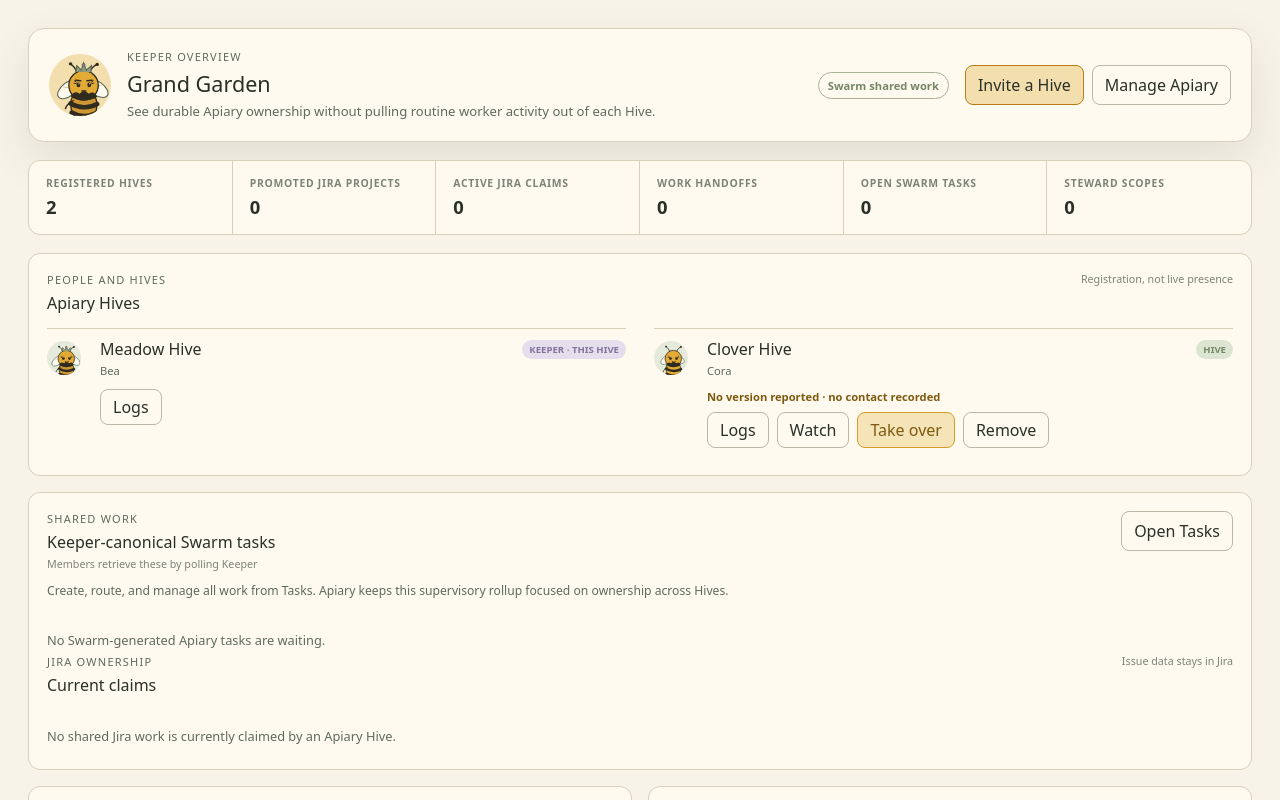
it: a Hive holding shared work cannot be removed, and the roster says what holds it
What coordinates should you click on to do the following:
click the button "Remove"
I would click on:
 (1006, 430)
Its box is [963,412,1049,448].
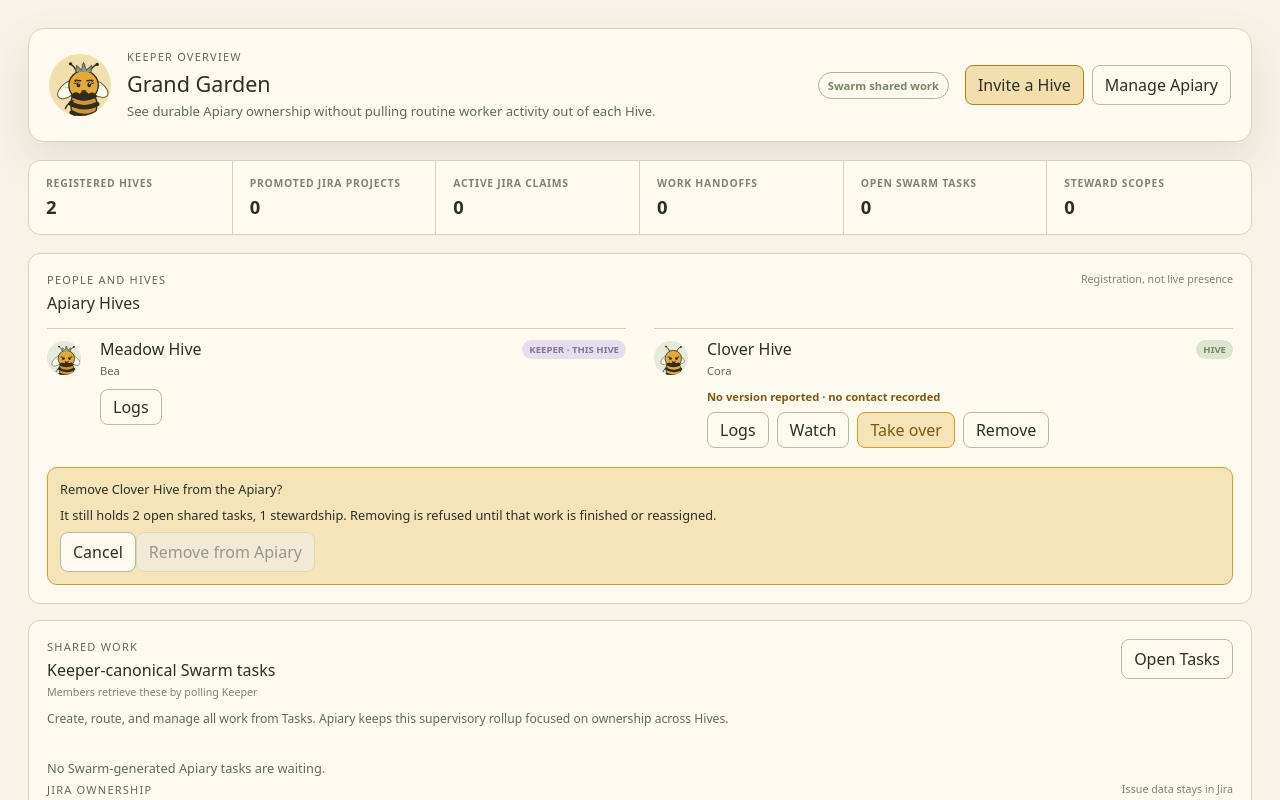
Now the dialog shows "2 open shared tasks", box [132,506,343,524]
Now the dialog shows "1 stewardship", box [132,506,343,524]
Now the button "Remove from Apiary" is disabled, box [136,532,315,572]
